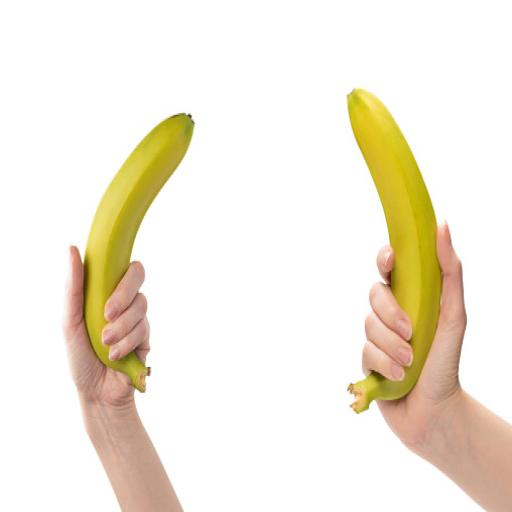banana: (84, 114, 193, 392), (348, 90, 441, 412)
